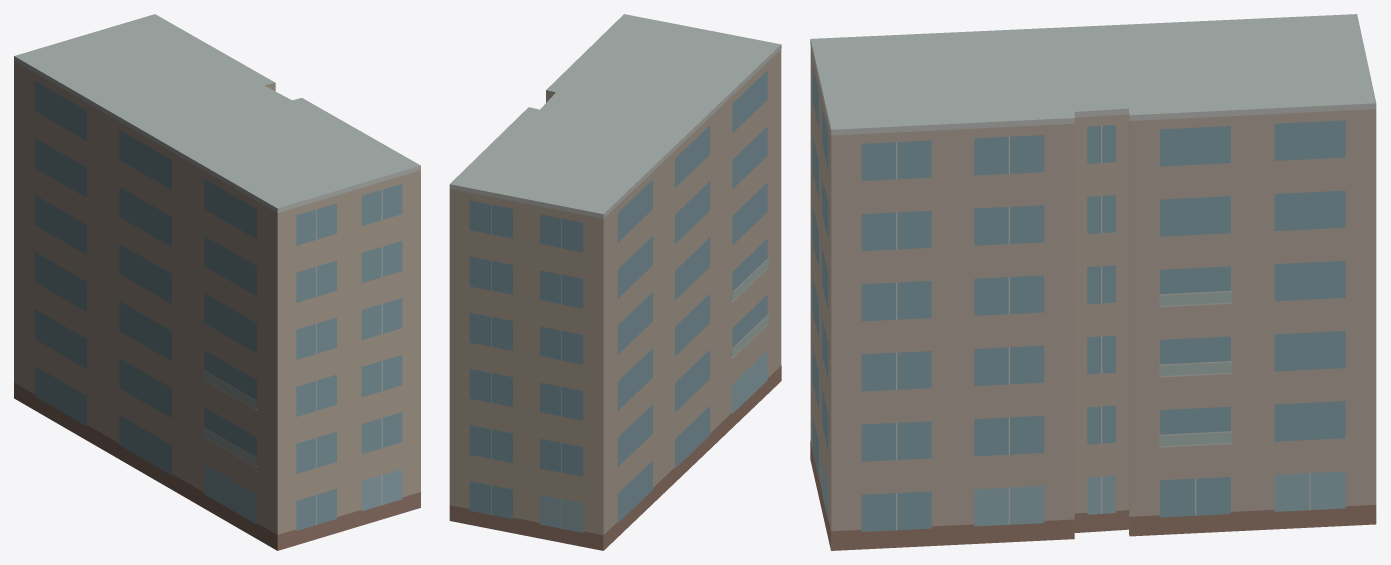
The model's file is survey-upis-32654172.glb.
3 views of the same model, side by side, from view 1: azimuth 30°, elevation 25°; view 2: azimuth 150°, elevation 25°; view 3: azimuth 270°, elevation 25° (orthographic). The views are drawn at different scales.
Visible parts, largest first — view 1: survey-upis-32654172.tmp; view 2: survey-upis-32654172.tmp; view 3: survey-upis-32654172.tmp.
Boxes of the visible parts, x1,y1,x2,y2 form: survey-upis-32654172.tmp: [14, 14, 420, 550]; survey-upis-32654172.tmp: [449, 14, 781, 550]; survey-upis-32654172.tmp: [810, 14, 1376, 550].
Size of the model in its own units: 10.51 by 17.8 by 21.69.
